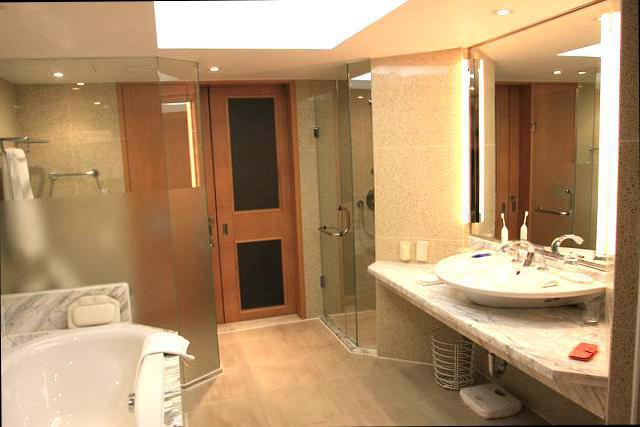Ducha: (318, 69, 470, 373)
Lavamanos: (428, 223, 609, 318)
